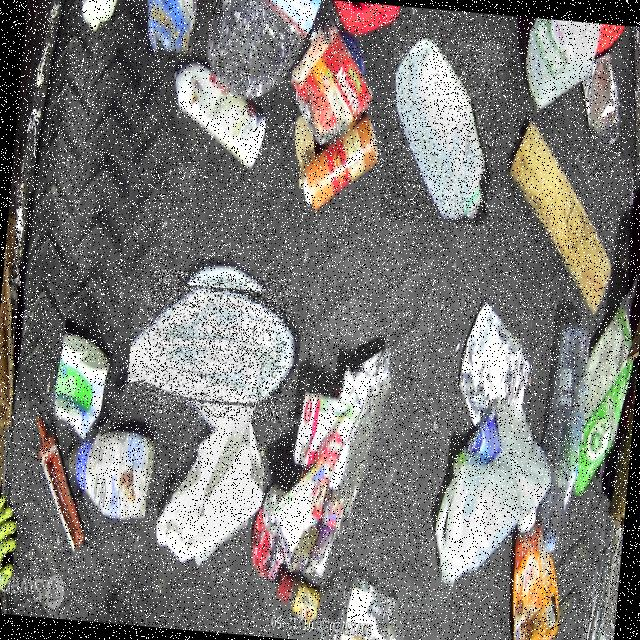milk-jug: (379, 34, 505, 228), (138, 267, 292, 423)
